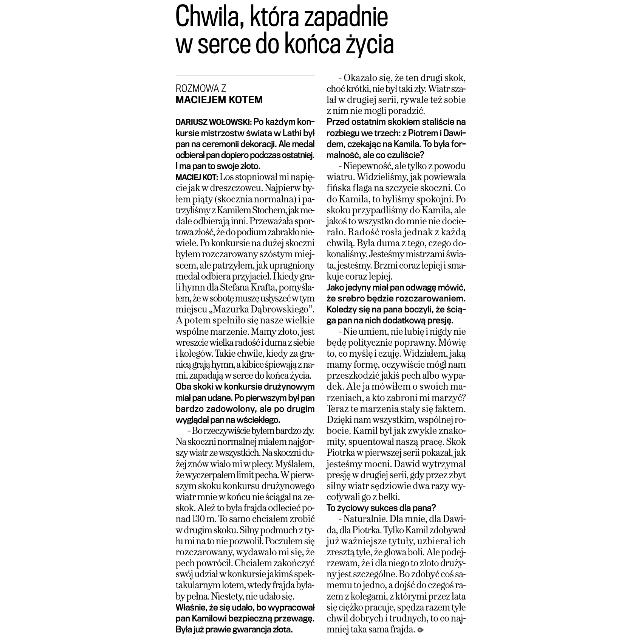body: (322, 69, 468, 636), (174, 114, 318, 636)
lead: (175, 79, 272, 107)
title: (173, 1, 405, 62)
